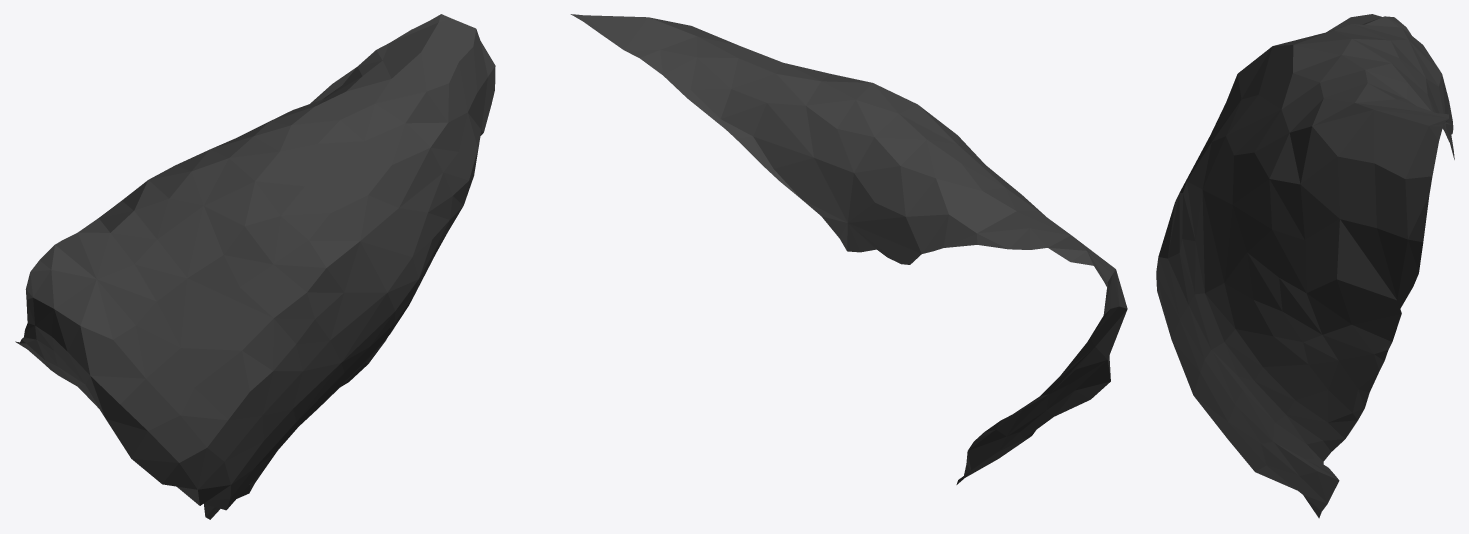
Rendered from M_semimembranosus_cran_M_triceps_brach_long_001.glb.
3 views of the same model, side by side, from view 1: azimuth 30°, elevation 25°; view 2: azimuth 150°, elevation 25°; view 3: azimuth 270°, elevation 25° (orthographic). The views are drawn at different scales.
Parts seen in each view (by area): view 1: M_semimembranosus_cran_M_triceps_brach_long_001; view 2: M_semimembranosus_cran_M_triceps_brach_long_001; view 3: M_semimembranosus_cran_M_triceps_brach_long_001.
Boxes of the visible parts, bbox=[...] form: M_semimembranosus_cran_M_triceps_brach_long_001: bbox=[15, 14, 495, 519]; M_semimembranosus_cran_M_triceps_brach_long_001: bbox=[570, 14, 1127, 484]; M_semimembranosus_cran_M_triceps_brach_long_001: bbox=[1156, 14, 1454, 518].
Bounding box in the file's own units: 0.0212 × 0.0169 × 0.00785.
1 material, 1 textured.
